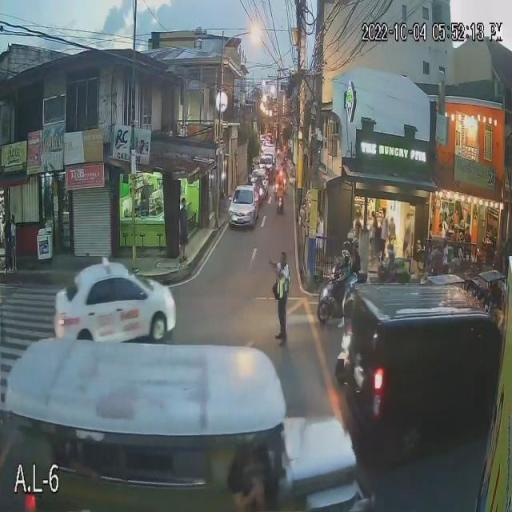helmet: (341, 249, 351, 264), (342, 240, 352, 249), (352, 238, 360, 248), (278, 178, 283, 185)
motorcycle: (316, 284, 342, 326), (276, 195, 285, 213)
rider: (338, 263, 350, 329), (354, 249, 360, 276), (277, 185, 283, 199)
